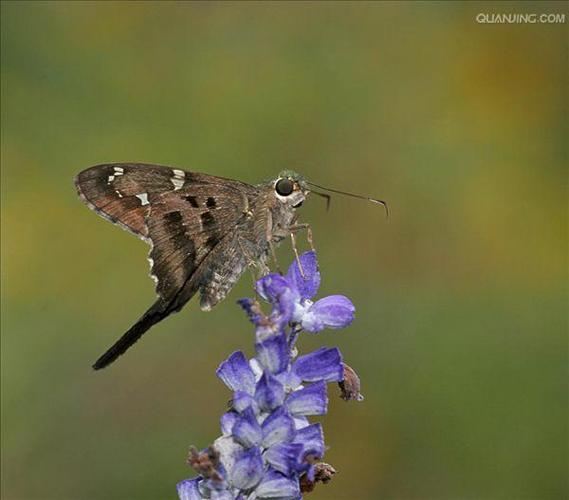Hesperiidae: (92, 155, 381, 371)
